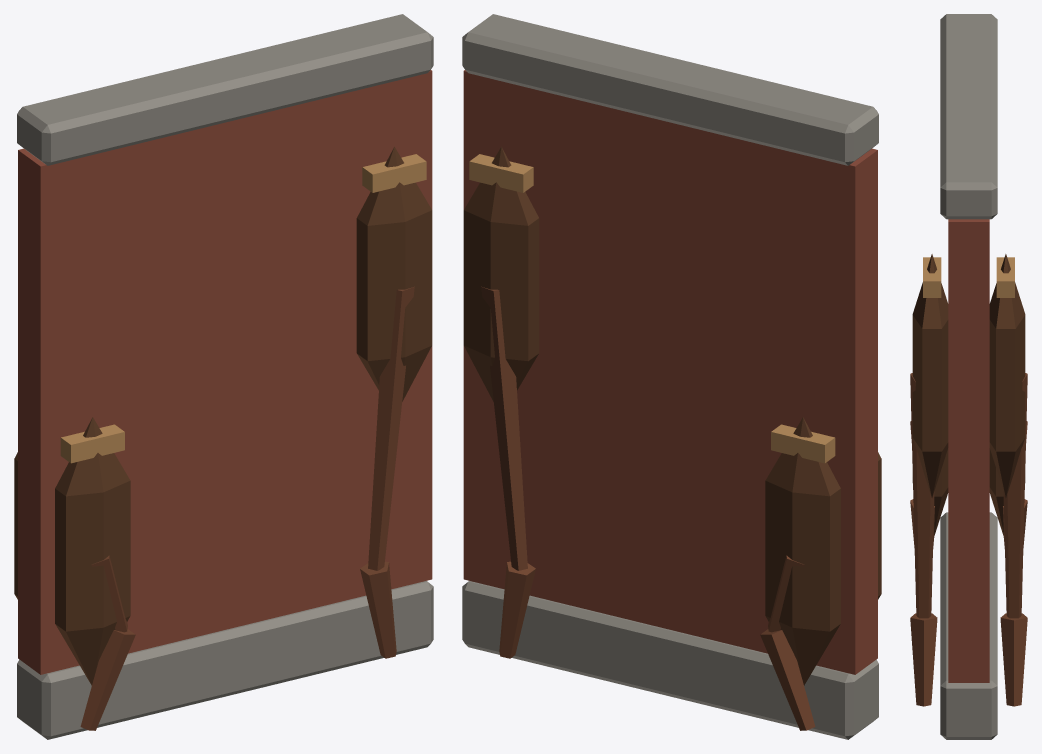
The model's file is building-wall-solid-infested.glb.
3 views of the same model, side by side, from view 1: azimuth 30°, elevation 25°; view 2: azimuth 150°, elevation 25°; view 3: azimuth 270°, elevation 25° (orthographic). The views are drawn at different scales.
Visible parts, largest first — view 1: field, cornice, plinth, plaque_-1_0, plaque_-1_1, root_-1_1, foot_-1_0, foot_-1_1, plaque_-1_1_ridge, plaque_-1_0_ridge, root_-1_0; view 2: field, cornice, plinth, plaque_1_0, plaque_1_1, root_1_1, foot_1_0, foot_1_1, plaque_1_1_ridge, plaque_1_0_ridge, root_1_0; view 3: field, cornice, plaque_-1_1, plaque_1_1, plinth, root_-1_1, root_1_1, foot_-1_1, foot_1_1, plaque_-1_0, plaque_1_0, plaque_-1_1_ridge (+1 smaller).
Boxes of the visible parts, x1,y1,x2,y2 form: field: (18, 70, 432, 674); cornice: (17, 14, 433, 165); plinth: (17, 581, 433, 739); plaque_-1_0: (55, 417, 130, 685); plaque_-1_1: (356, 146, 432, 401); root_-1_1: (368, 286, 414, 570); foot_-1_0: (80, 629, 135, 730); foot_-1_1: (360, 561, 396, 658); plaque_-1_1_ridge: (362, 154, 426, 192); plaque_-1_0_ridge: (60, 424, 124, 463); root_-1_0: (91, 555, 127, 632); field: (463, 70, 877, 674); cornice: (462, 14, 878, 165); plinth: (462, 581, 878, 739); plaque_1_0: (765, 417, 840, 685); plaque_1_1: (463, 146, 539, 401); root_1_1: (481, 286, 527, 570); foot_1_0: (760, 629, 815, 730); foot_1_1: (499, 561, 535, 658); plaque_1_1_ridge: (469, 154, 533, 192); plaque_1_0_ridge: (771, 424, 835, 463); root_1_0: (768, 555, 804, 632); field: (948, 219, 989, 682); cornice: (940, 14, 997, 219); plaque_-1_1: (912, 254, 948, 497); plaque_1_1: (989, 254, 1025, 497); plinth: (940, 512, 997, 739); root_-1_1: (910, 373, 934, 618); root_1_1: (1003, 373, 1027, 618); foot_-1_1: (910, 613, 937, 706); foot_1_1: (1000, 613, 1027, 706); plaque_-1_0: (912, 448, 948, 535); plaque_1_0: (989, 448, 1025, 535); plaque_-1_1_ridge: (923, 257, 941, 297).
Bounding box in the file's own units: 1 × 1.5 × 0.2866.
